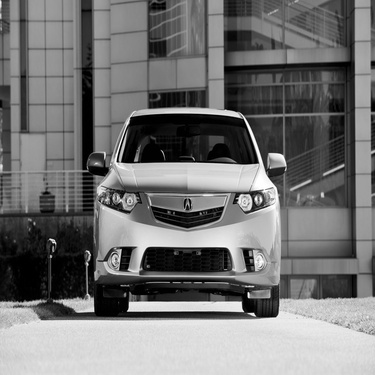car: (63, 103, 293, 324)
